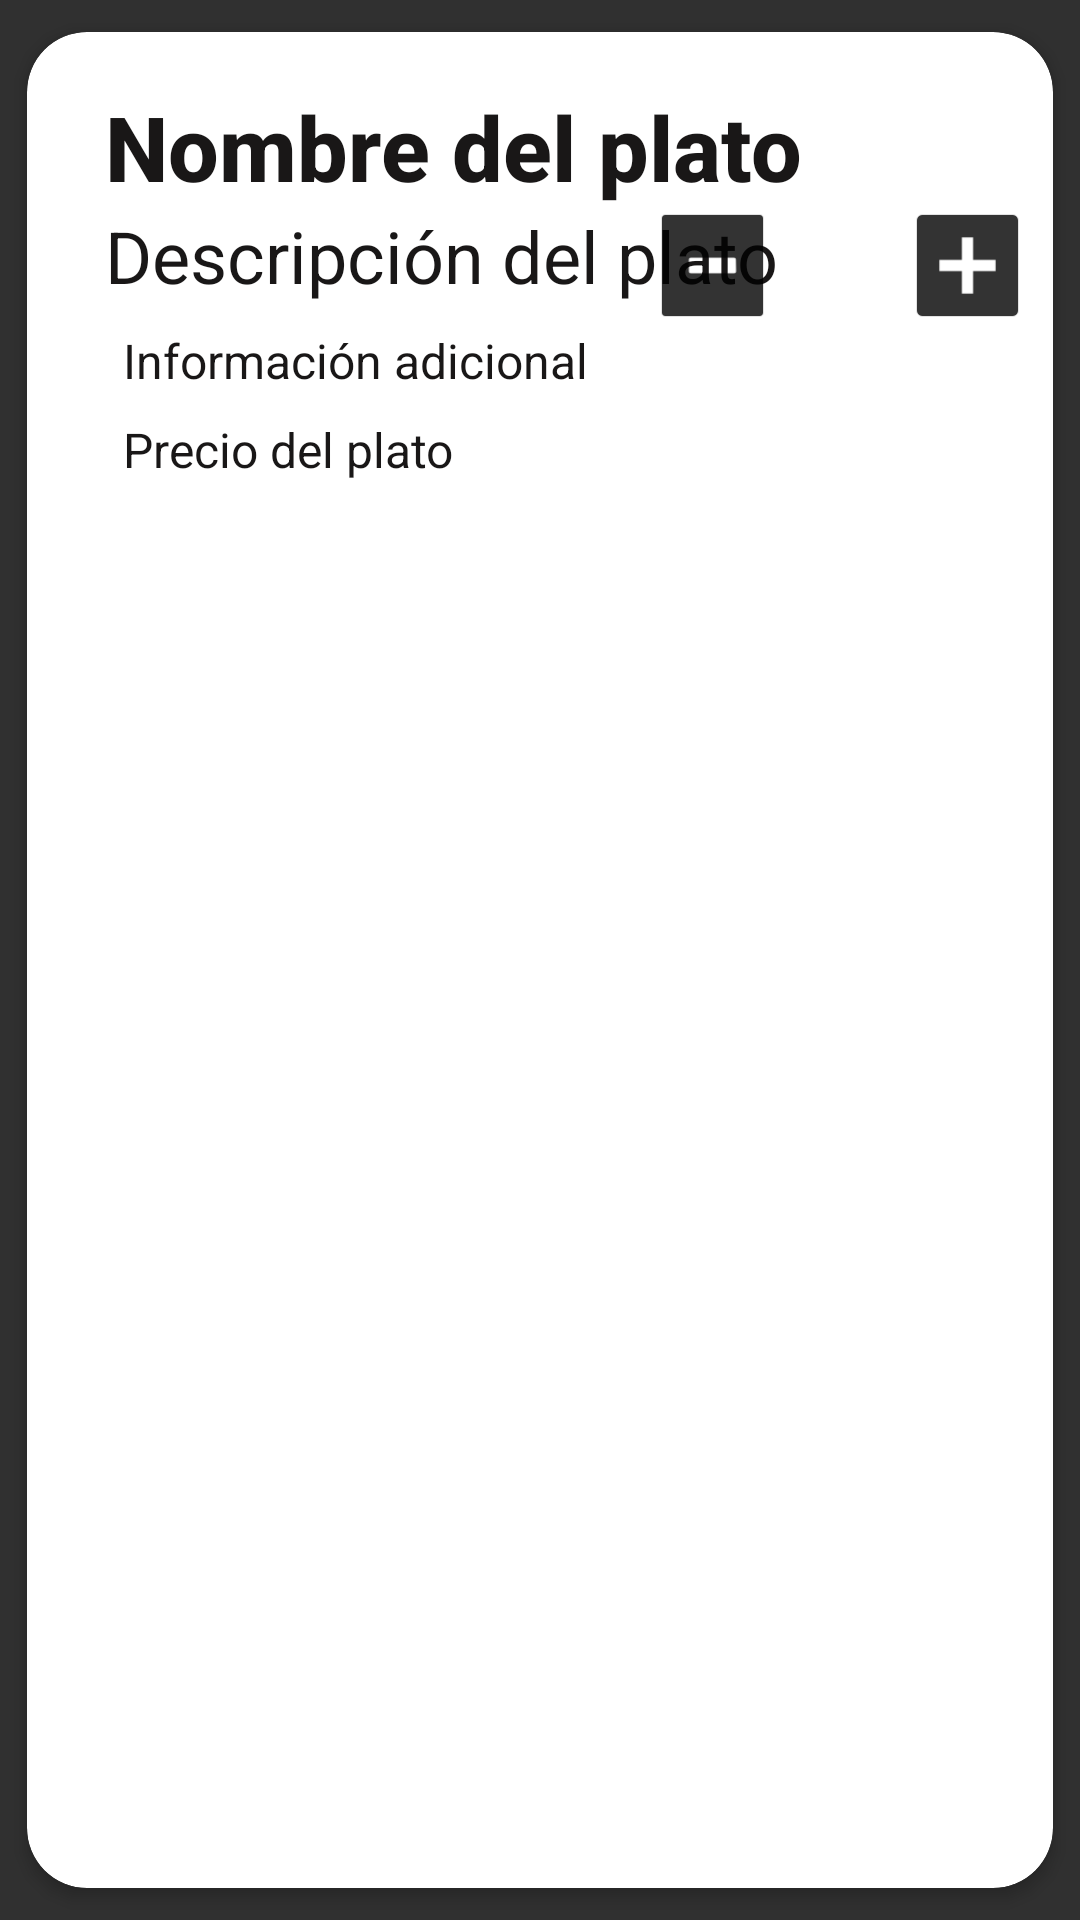

Icons on this 1080 × 1920 Android screen, each with the point to tap as (x=x, y=y):
add: (x=967, y=265)
